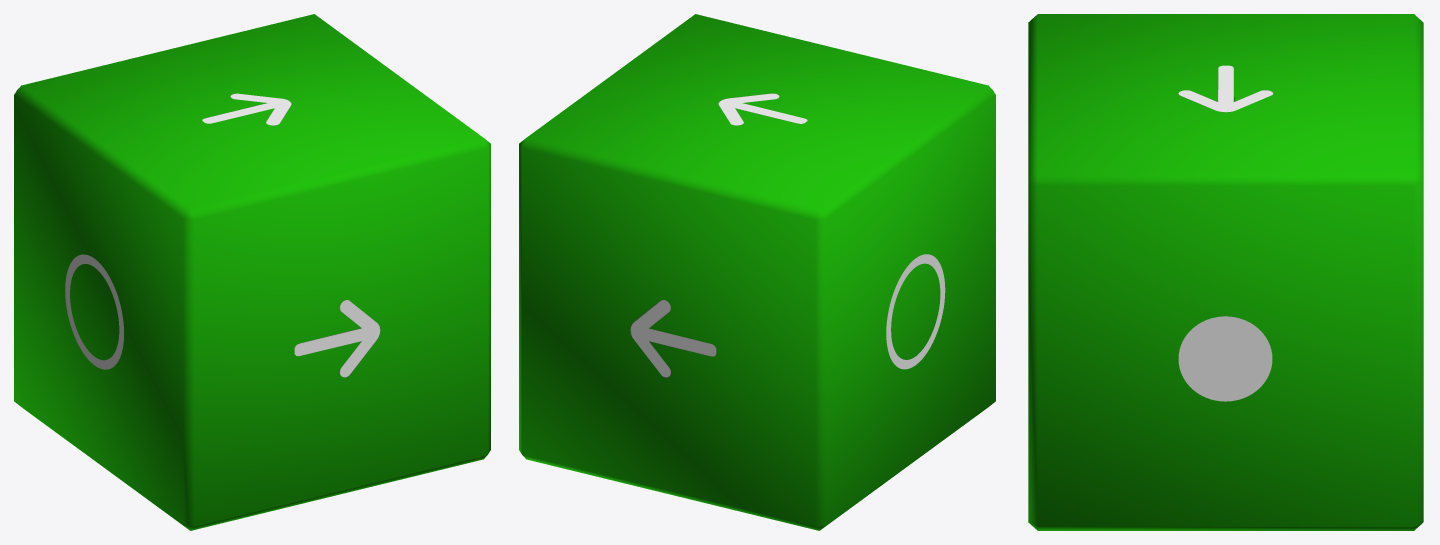
File: BigBoxTapFlowBox_2_2_2_Clean_test2.fbx
3 renders of one model, left to right at view 1: azimuth 30°, elevation 25°; view 2: azimuth 150°, elevation 25°; view 3: azimuth 270°, elevation 25°, orthographic. The views are drawn at different scales.
Parts seen in each view (by area): view 1: BigBoxTapFlowBox_2_2_2_Clean_test; view 2: BigBoxTapFlowBox_2_2_2_Clean_test; view 3: BigBoxTapFlowBox_2_2_2_Clean_test.
Boxes of the visible parts, x1=… form: BigBoxTapFlowBox_2_2_2_Clean_test: x1=14, y1=14, x2=490, y2=530; BigBoxTapFlowBox_2_2_2_Clean_test: x1=519, y1=14, x2=995, y2=530; BigBoxTapFlowBox_2_2_2_Clean_test: x1=1028, y1=14, x2=1423, y2=530.
Bounding box in the file's own units: 2.15 × 2.13 × 2.13.
Materials: 1 (1 with a texture image).
